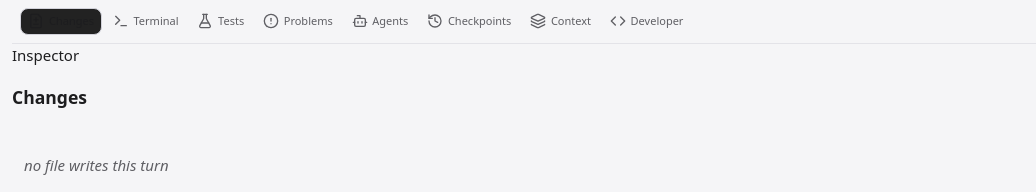
it: AgentPanel › the Problems tab says nothing happened yet instead of dressing an empty list
The image size is (1036, 192).
Click the tab "Problems". click: (298, 21)
box: top-left (255, 8), bottom-right (341, 34)
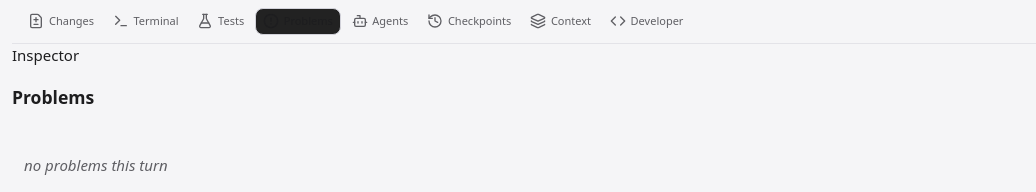
expect the panel reads "no problems this turn": met, box top-left (24, 155), bottom-right (168, 175)
